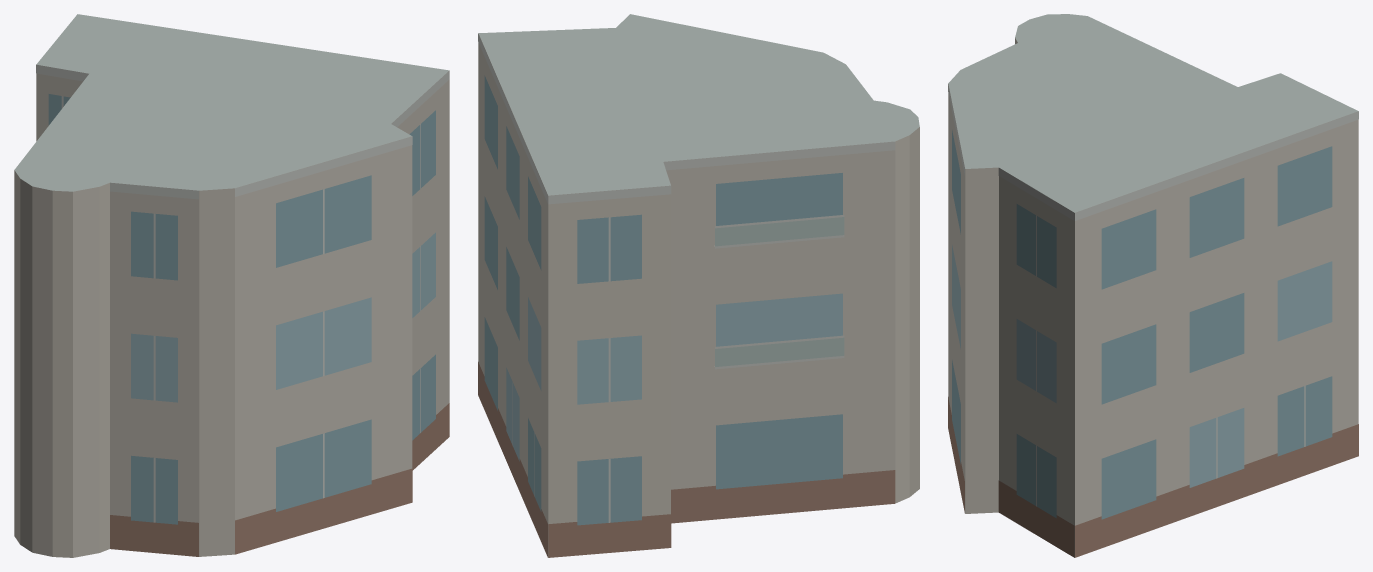
The model's file is survey-upis-32550938.glb.
The picture shows the model from 3 angles, left to right: view 1: azimuth 30°, elevation 25°; view 2: azimuth 150°, elevation 25°; view 3: azimuth 270°, elevation 25°; orthographic projection. The views are drawn at different scales.
Parts seen in each view (by area): view 1: survey-upis-32550938.tmp; view 2: survey-upis-32550938.tmp; view 3: survey-upis-32550938.tmp.
Part boxes in pixels (bbox=[...]): survey-upis-32550938.tmp: bbox=[14, 14, 449, 557]; survey-upis-32550938.tmp: bbox=[478, 14, 919, 557]; survey-upis-32550938.tmp: bbox=[948, 14, 1358, 557].
Bounding box in the file's own units: 12.49 × 10.1 × 10.9.
